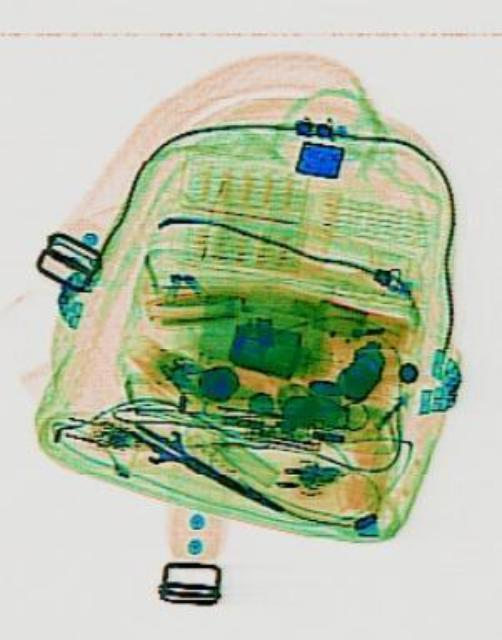Knife: (120, 406, 288, 528)
